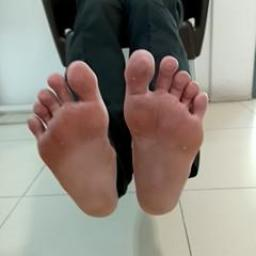Plantar View -Both Feet-: (15, 42, 226, 228)
